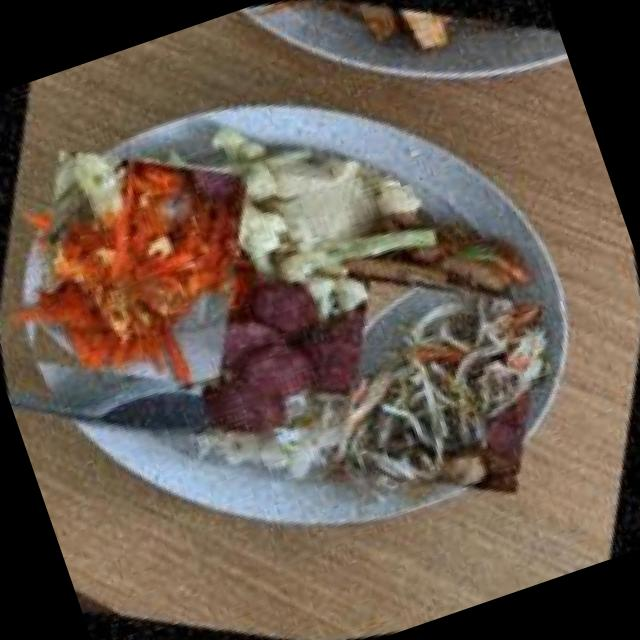carrot_eggs: (0, 81, 325, 453)
chinese_sausage: (137, 205, 454, 512)
mung_bean_sprouts: (276, 216, 610, 556)
